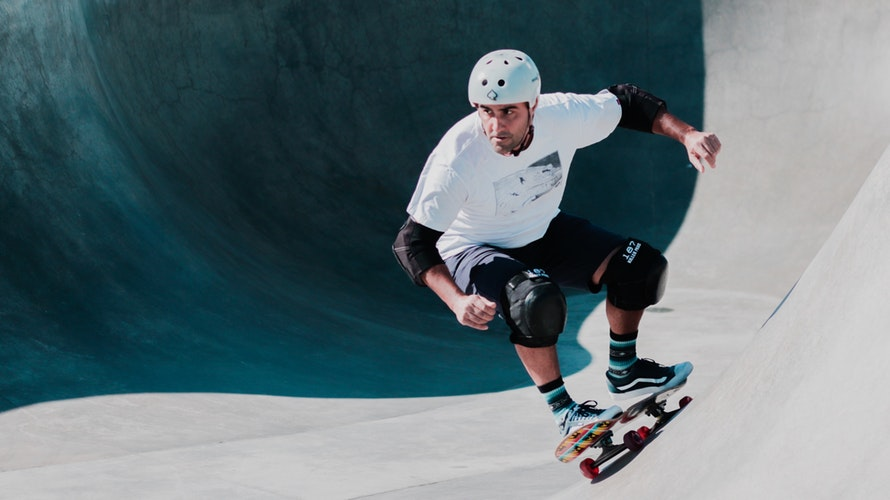helmet: (463, 43, 539, 109)
